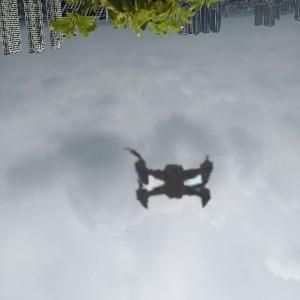drone: (80, 85, 279, 284)
